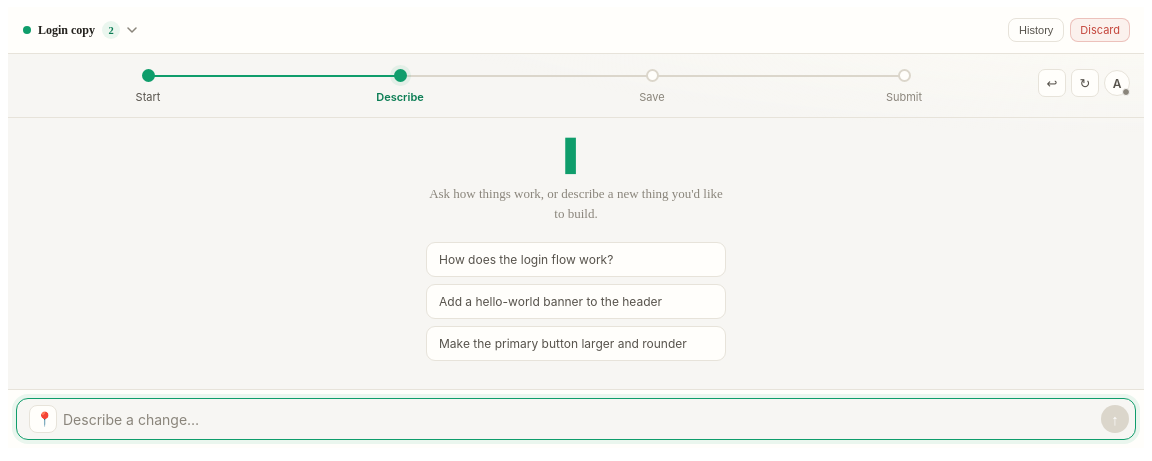
Test: Panel › change switcher › shows the current change's title and lists every change with saves + unsaved state
Click the button with aria-label "your changes — login copy" at [67, 30], box [16, 16, 792, 44]
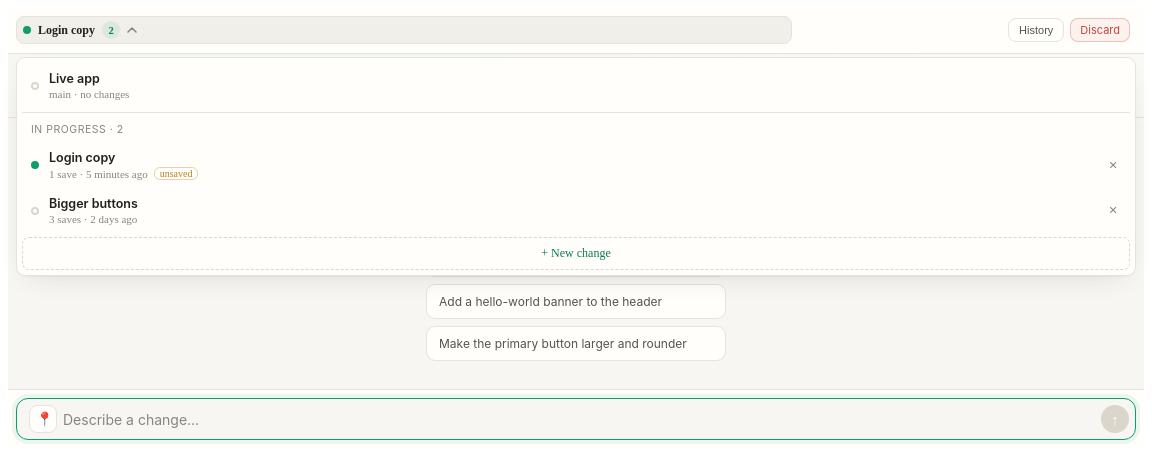
Result: the menu named "your changes" shows "In progress · 2" at [31, 123, 124, 136]
Result: the menu named "your changes" shows "Bigger buttons" at [22, 188, 1100, 233]
Result: the menu named "your changes" shows "3 saves · 2 days ago" at [16, 57, 1136, 276]
